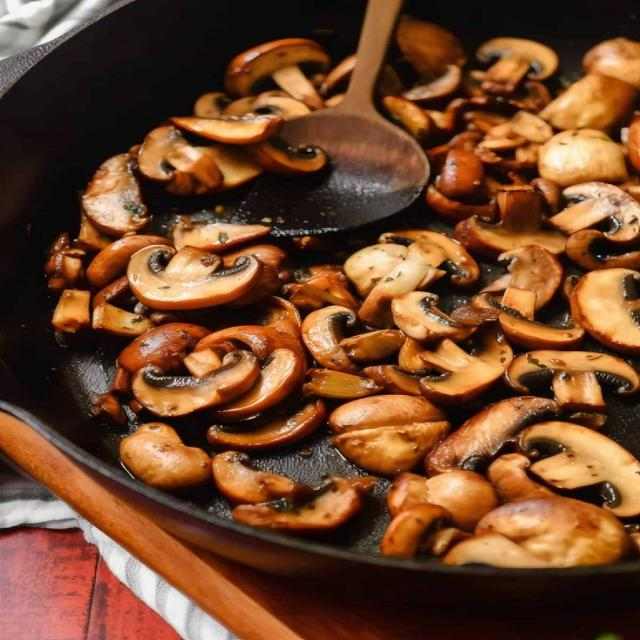champignon mushrooms: (519, 422, 639, 516), (426, 397, 560, 475), (476, 498, 628, 566), (127, 245, 262, 309), (132, 350, 259, 416), (505, 350, 639, 410), (454, 186, 566, 257), (234, 477, 374, 533), (225, 38, 330, 108), (359, 243, 445, 328), (420, 328, 513, 404), (212, 350, 304, 422), (387, 471, 497, 531), (333, 421, 449, 476), (207, 399, 326, 451), (120, 423, 211, 491), (138, 126, 222, 195), (571, 268, 639, 353), (379, 230, 479, 286), (82, 154, 150, 236), (540, 73, 637, 130), (549, 182, 639, 243), (499, 287, 584, 349), (212, 451, 312, 503), (482, 245, 563, 309), (539, 129, 628, 187), (118, 323, 210, 374), (396, 16, 466, 80), (329, 396, 446, 434), (427, 470, 498, 531), (87, 236, 170, 288), (392, 292, 476, 341), (195, 325, 302, 361), (380, 504, 450, 558), (443, 532, 549, 567), (302, 306, 357, 372), (171, 217, 271, 252), (344, 244, 407, 298), (476, 38, 558, 79), (171, 115, 283, 145), (487, 453, 555, 502), (285, 265, 358, 310), (247, 139, 327, 176), (566, 230, 639, 270), (199, 145, 262, 191), (583, 38, 639, 89), (435, 149, 484, 201), (222, 92, 310, 120), (426, 185, 495, 220), (45, 232, 85, 292), (303, 369, 383, 399), (382, 96, 431, 142), (403, 65, 462, 102), (92, 303, 154, 338), (340, 329, 405, 362), (481, 53, 530, 96), (387, 473, 429, 516), (364, 365, 421, 396), (221, 245, 288, 271), (52, 290, 91, 333), (74, 212, 113, 252), (508, 111, 553, 144), (320, 54, 356, 95), (183, 349, 222, 377), (398, 337, 426, 373), (194, 92, 230, 117), (627, 117, 639, 171)
